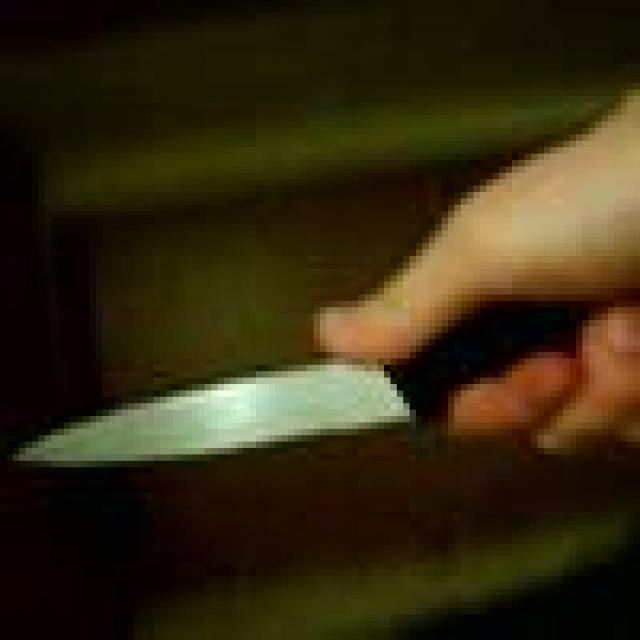knife: (13, 359, 414, 462)
